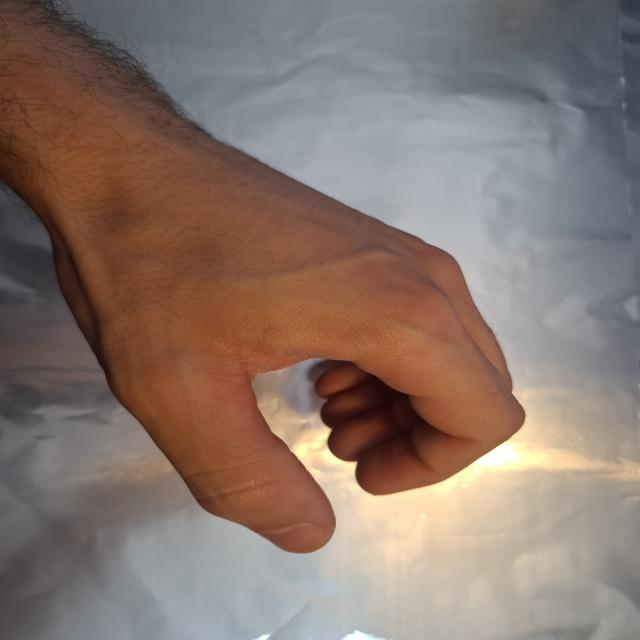glove_off: (43, 132, 531, 556)
